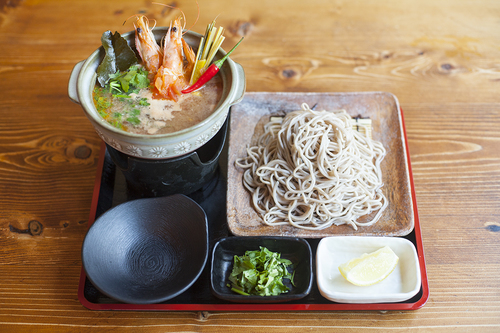Soba: (244, 104, 396, 232)
